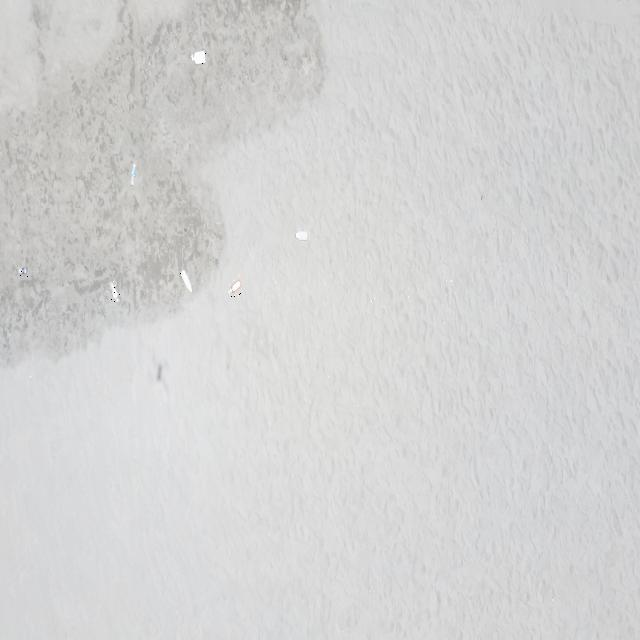Garbage: (180, 270, 191, 292), (227, 280, 240, 296), (192, 49, 203, 64), (111, 280, 119, 300), (129, 163, 136, 184), (296, 231, 306, 240), (19, 267, 27, 276)
